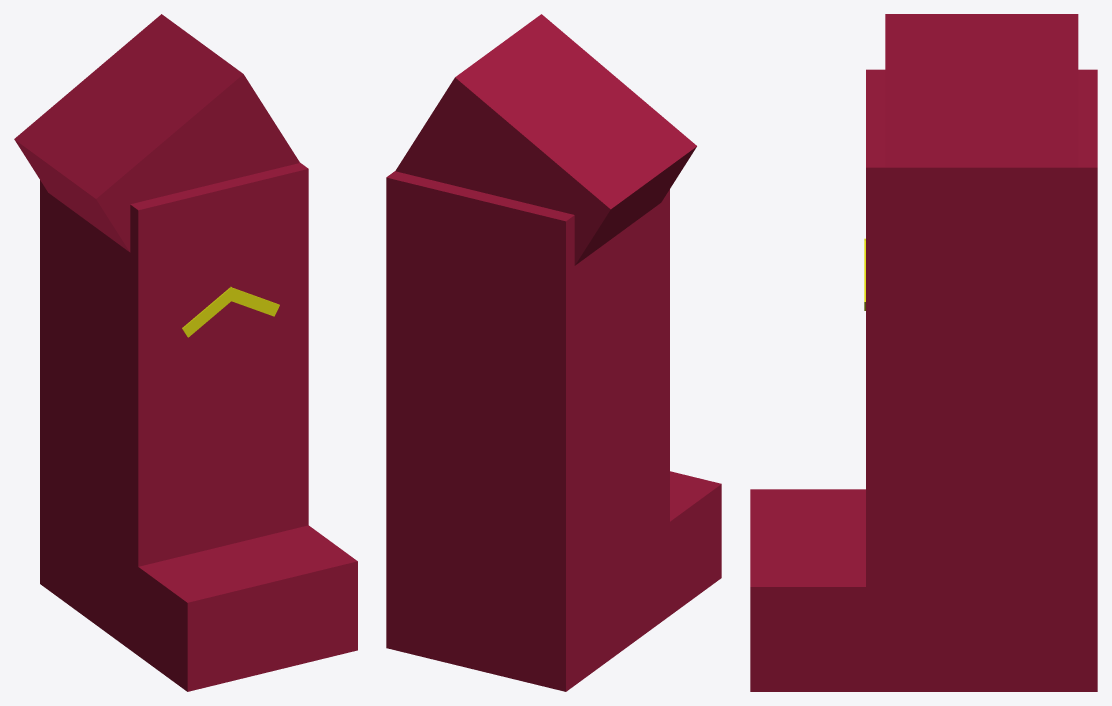
The model's file is DaemonLeftLeg.fbx.
The picture shows the model from 3 angles, left to right: view 1: azimuth 30°, elevation 25°; view 2: azimuth 150°, elevation 25°; view 3: azimuth 270°, elevation 25°; orthographic projection. The views are drawn at different scales.
Visible parts, largest first — view 1: Cube.001, Cube.003; view 2: Cube.001; view 3: Cube.001.
Boxes of the visible parts, <box> form: Cube.001: <box>14,14,357,691</box>; Cube.003: <box>182,286,279,337</box>; Cube.001: <box>386,14,721,691</box>; Cube.001: <box>750,14,1097,691</box>.
Size of the model in its own units: 72.02 by 185 by 90.
